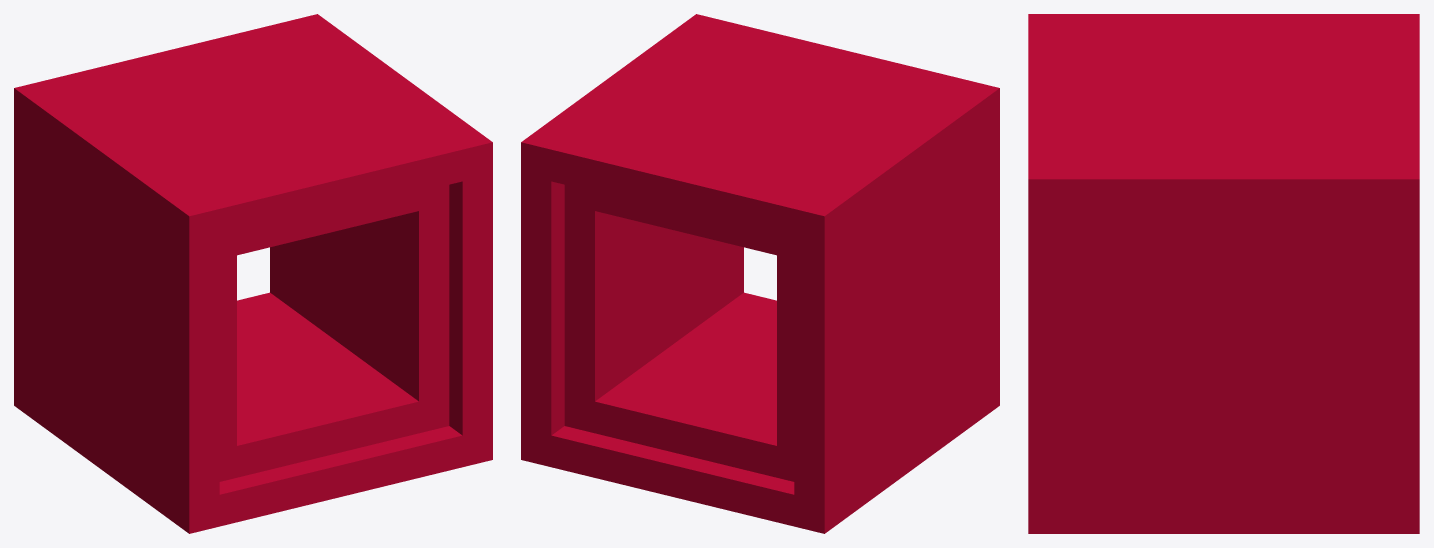
File: MuroHueco.FBX
3 views of the same model, side by side, from view 1: azimuth 30°, elevation 25°; view 2: azimuth 150°, elevation 25°; view 3: azimuth 270°, elevation 25° (orthographic). The views are drawn at different scales.
Visible parts, largest first — view 1: MuroHueco; view 2: MuroHueco; view 3: MuroHueco.
Part boxes in pixels (x1,y1,x2,y2): MuroHueco: (14,14,492,533); MuroHueco: (521,14,999,533); MuroHueco: (1028,14,1419,533).
Size of the model in its own units: 1 by 1 by 1.
Materials: 1 (1 with a texture image).
